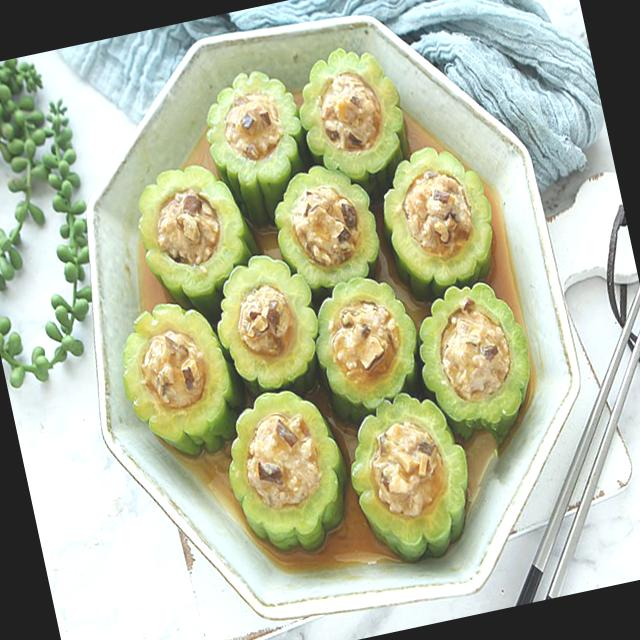kho qua: (350, 394, 467, 561), (228, 390, 344, 549), (138, 166, 254, 320), (122, 304, 239, 453), (419, 282, 529, 439), (383, 146, 491, 296), (206, 71, 301, 225), (315, 278, 416, 415), (299, 48, 402, 182), (217, 255, 317, 393), (274, 167, 378, 292)
